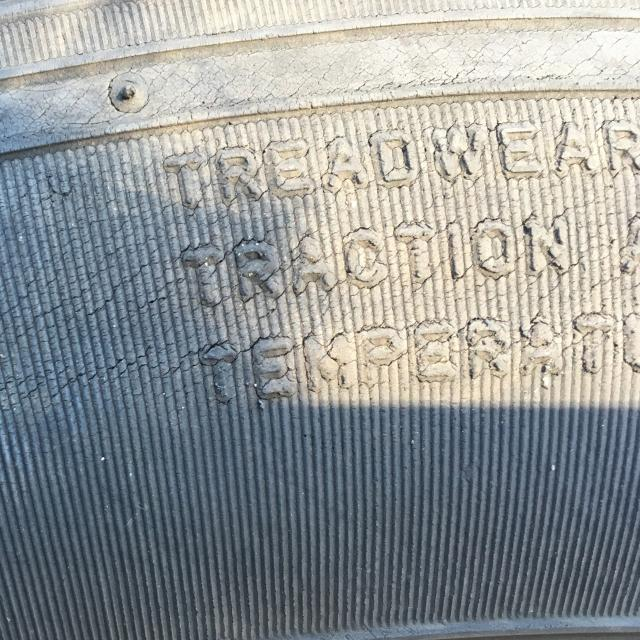Cracks: (0, 5, 640, 449)
